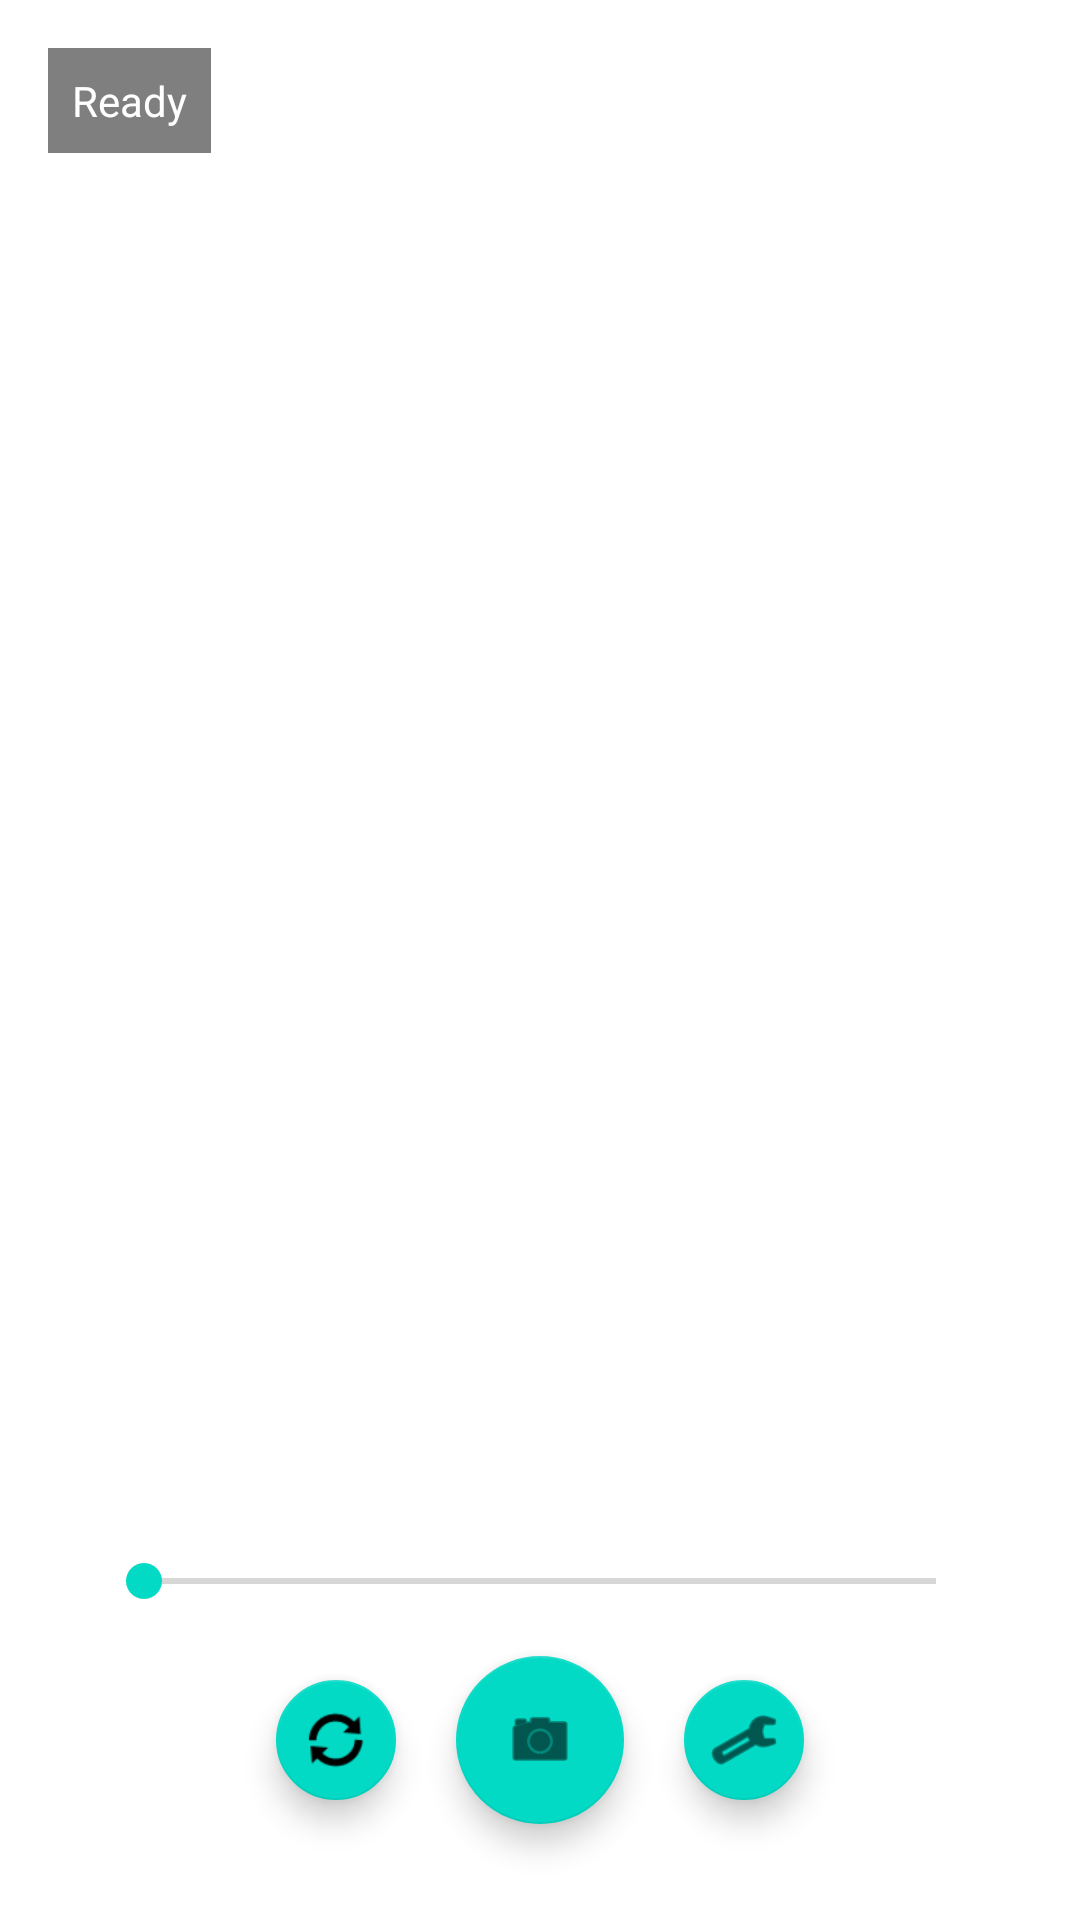

Screen size 1080x1920. Icon name, then its center in pixels as [x,y]:
camera: [540,1740]
popup sync: [336,1746]
preferences: [744,1746]
